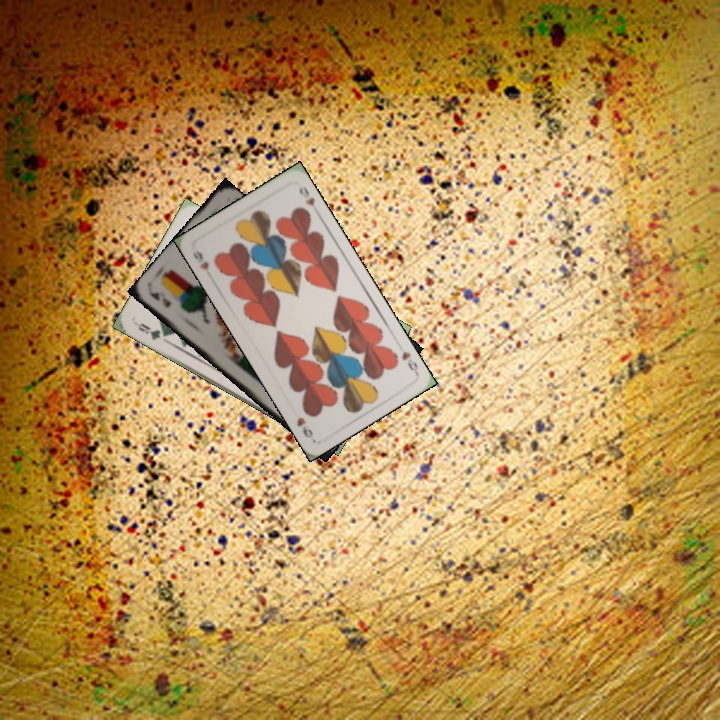EK: (147, 288, 173, 311)
G9: (133, 319, 171, 342)
H9: (397, 347, 421, 376), (189, 246, 212, 273)
